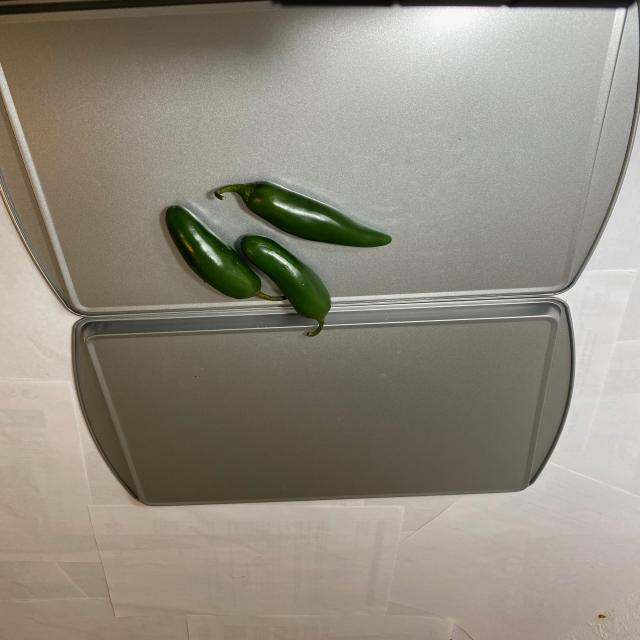chilli: (162, 181, 398, 341)
